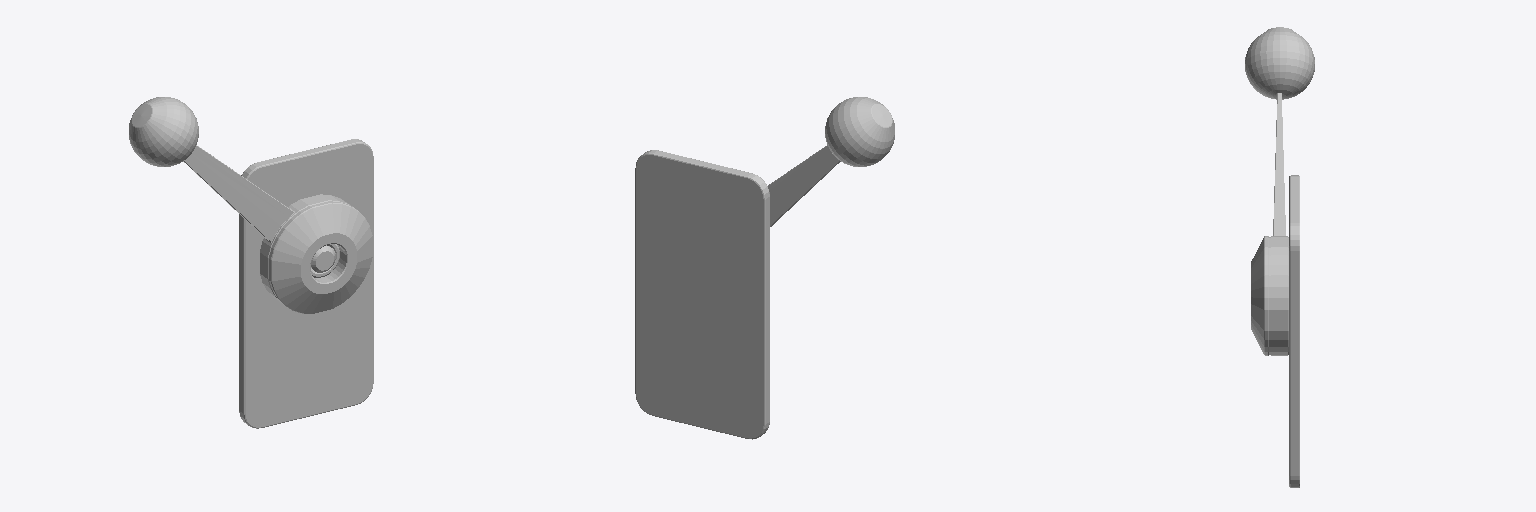
File: Alarm Lever.obj
3 views of the same model, side by side, from view 1: azimuth 30°, elevation 25°; view 2: azimuth 150°, elevation 25°; view 3: azimuth 270°, elevation 25° (orthographic).
Parts seen in each view (by area): view 1: Alarm_Level; view 2: Alarm_Level; view 3: Alarm_Level.
Part boxes in pixels (bbox=[...]): Alarm_Level: bbox=[129, 97, 373, 428]; Alarm_Level: bbox=[635, 97, 894, 439]; Alarm_Level: bbox=[1245, 27, 1314, 487].
Bounding box in the file's own units: 0.2757 × 0.383 × 0.0688.